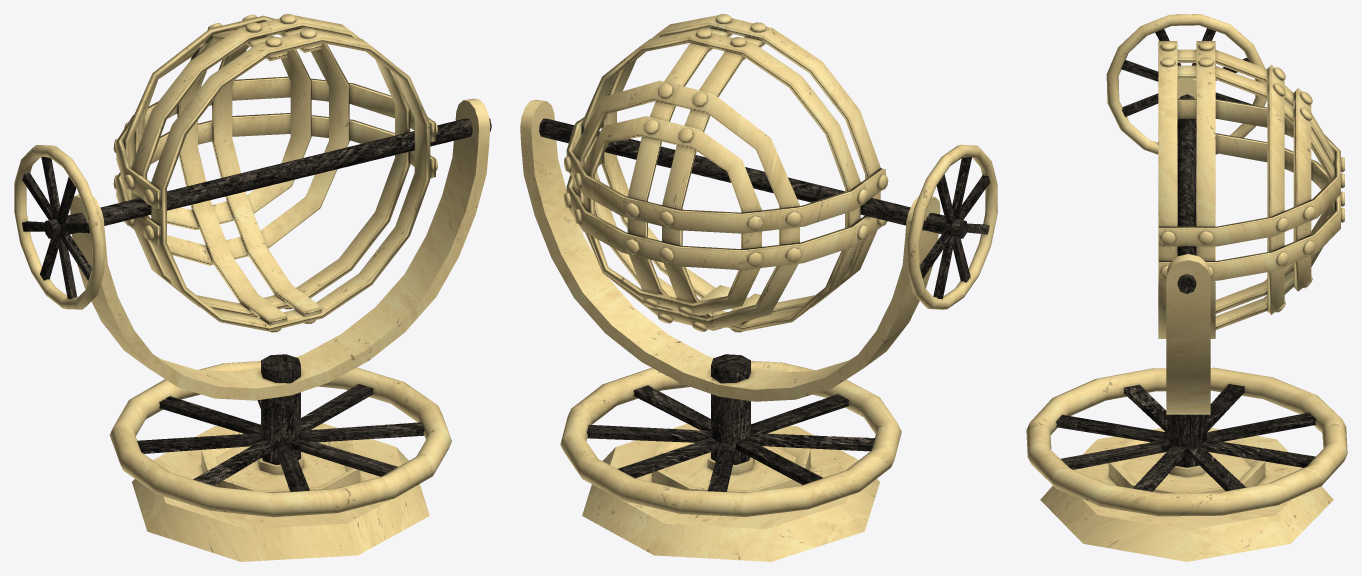
The model's file is LightMechanism01_v01.fbx.
3 views of the same model, side by side, from view 1: azimuth 30°, elevation 25°; view 2: azimuth 150°, elevation 25°; view 3: azimuth 270°, elevation 25° (orthographic). The views are drawn at different scales.
Visible parts, largest first — view 1: MechanismBasket, MechanismFrame.001, MechanismBase.001; view 2: MechanismBasket, MechanismFrame.001, MechanismBase.001; view 3: MechanismBasket, MechanismFrame.001, MechanismBase.001.
Boxes of the visible parts, box(x1,y1,x2,y2) form: MechanismBasket: box(14, 14, 491, 332); MechanismFrame.001: box(70, 98, 490, 517); MechanismBase.001: box(132, 423, 429, 561); MechanismBasket: box(539, 14, 997, 332); MechanismFrame.001: box(520, 99, 940, 516); MechanismBase.001: box(582, 423, 879, 561); MechanismBasket: box(1106, 14, 1344, 338); MechanismFrame.001: box(1026, 79, 1347, 516); MechanismBase.001: box(1040, 428, 1333, 561).
Size of the model in its own units: 78.46 by 80.58 by 52.38.
